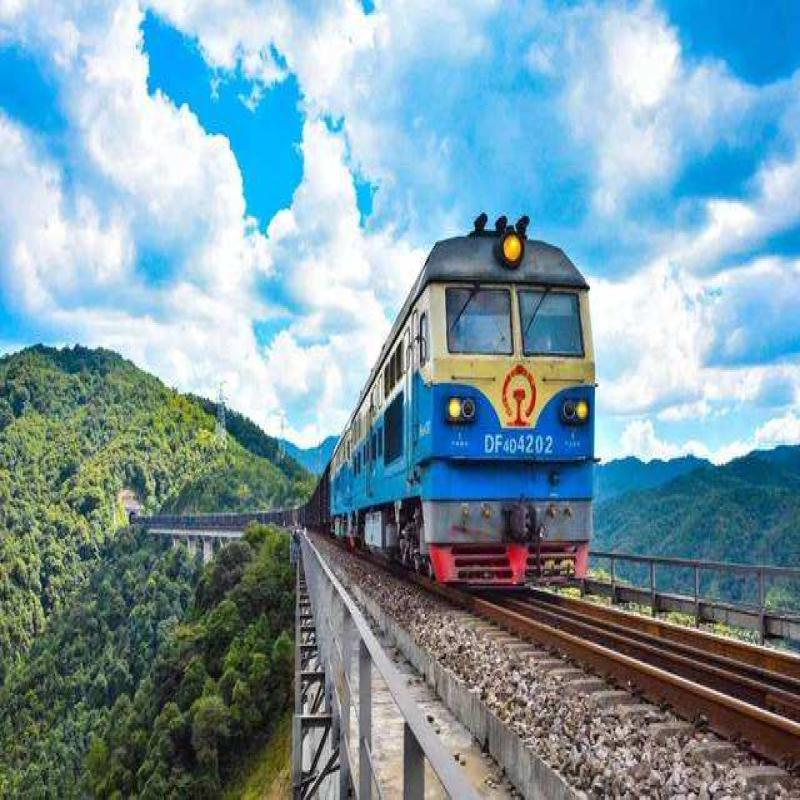train: (317, 212, 611, 627)
